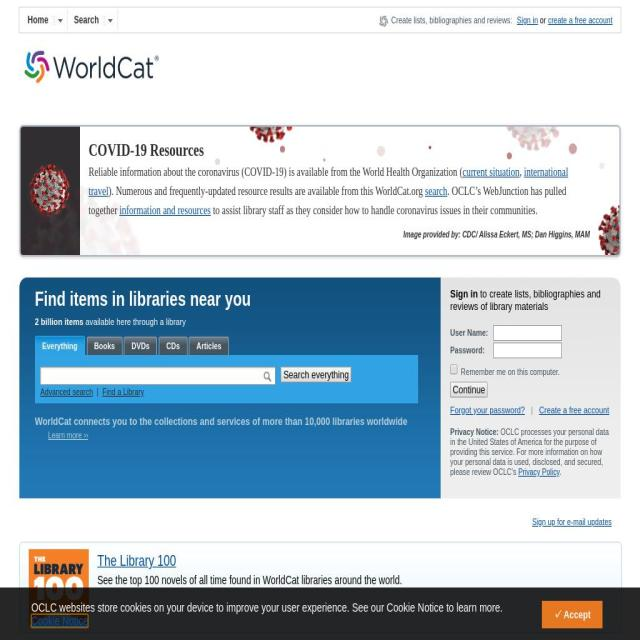button: (68, 10, 119, 30), (34, 336, 85, 356), (21, 10, 68, 30), (189, 337, 229, 355), (86, 337, 122, 355), (124, 337, 158, 355), (158, 337, 188, 355), (553, 622, 591, 636)
field: (40, 366, 276, 385), (280, 366, 352, 382), (493, 325, 563, 341), (493, 342, 563, 358), (450, 382, 488, 398), (450, 364, 459, 375)
heading: (34, 286, 419, 312), (35, 414, 408, 428), (97, 553, 176, 569), (83, 315, 186, 327), (34, 315, 84, 327), (48, 429, 88, 440)
image: (80, 183, 621, 309), (503, 126, 566, 256), (22, 38, 160, 96), (20, 126, 81, 256), (242, 126, 299, 256), (28, 549, 89, 626), (597, 202, 640, 265), (376, 145, 386, 157), (568, 143, 577, 154), (215, 158, 221, 166), (279, 145, 285, 153), (599, 162, 605, 169), (507, 152, 512, 159), (322, 158, 326, 162), (428, 145, 431, 149)
label: (461, 366, 560, 376), (450, 328, 489, 338), (450, 345, 485, 355)
link: (88, 166, 569, 197), (120, 204, 212, 217), (35, 336, 84, 355), (450, 404, 525, 415), (532, 516, 612, 526), (539, 404, 609, 415), (31, 628, 88, 640), (462, 166, 519, 178), (189, 337, 229, 354), (548, 15, 612, 25), (87, 337, 122, 354), (124, 337, 157, 354), (40, 386, 93, 396), (159, 337, 187, 354), (102, 386, 144, 396), (518, 466, 560, 476), (74, 14, 99, 26), (425, 185, 448, 197), (28, 14, 48, 26), (517, 15, 539, 25)
text: (88, 185, 566, 217), (88, 138, 590, 162), (450, 426, 609, 476), (31, 615, 502, 629), (97, 574, 522, 588), (88, 166, 463, 178), (211, 204, 538, 217), (108, 185, 426, 197), (450, 288, 601, 312), (403, 225, 590, 244), (19, 277, 28, 498), (377, 14, 512, 27), (450, 426, 499, 436), (450, 288, 478, 300), (524, 404, 540, 415), (538, 15, 548, 25), (92, 386, 102, 396), (520, 166, 524, 178), (559, 466, 562, 476)
